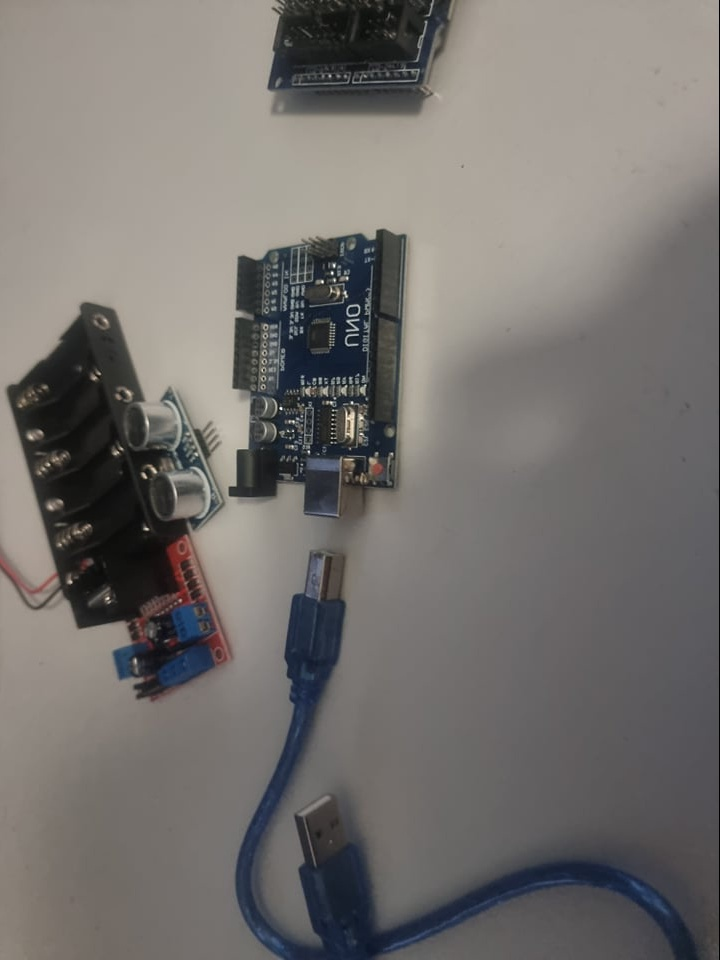5V EXPANSION: (266, 1, 448, 93)
BATTERY BOX: (1, 298, 151, 544)
MOTOR: (62, 535, 237, 706)
SENSOR: (124, 381, 222, 527)
UNO R3: (224, 221, 413, 525)
